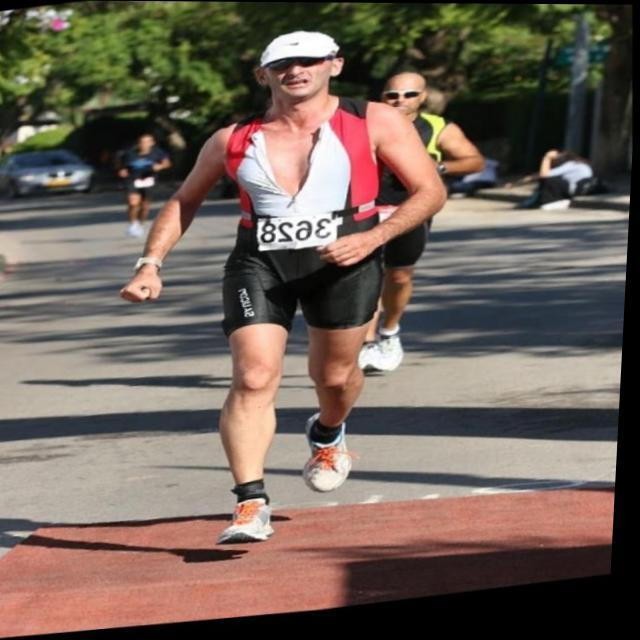dorsal: (249, 213, 348, 262)
